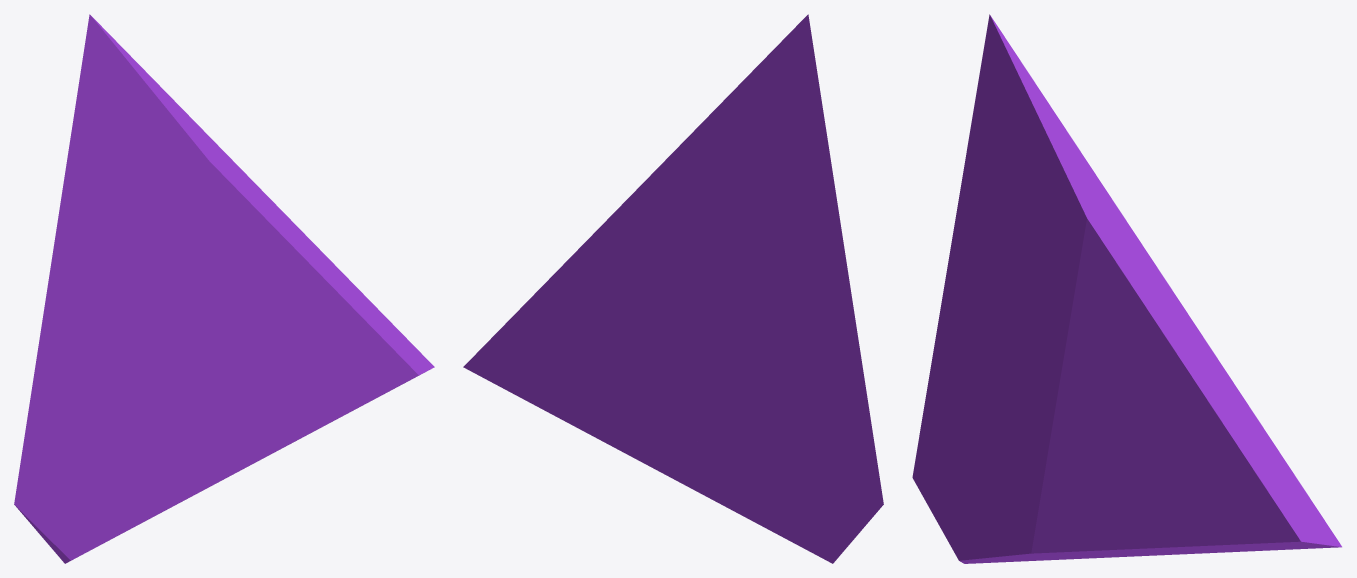
File: Window_40_11_chunks.fbx
3 views of the same model, side by side, from view 1: azimuth 30°, elevation 25°; view 2: azimuth 150°, elevation 25°; view 3: azimuth 330°, elevation 25° (orthographic). The views are drawn at different scales.
Parts seen in each view (by area): view 1: Window_40_11_0, Window_40_11_1, Window_40_11_2, Window_40_11_3; view 2: Window_40_11_0, Window_40_11_1, Window_40_11_2, Window_40_11_3; view 3: Window_40_11_0, Window_40_11_1, Window_40_11_2, Window_40_11_3.
Boxes of the visible parts, <box> form: Window_40_11_0: <box>50,14,312,360</box>; Window_40_11_1: <box>188,243,434,484</box>; Window_40_11_2: <box>14,398,213,563</box>; Window_40_11_3: <box>30,271,204,405</box>; Window_40_11_0: <box>585,14,847,381</box>; Window_40_11_1: <box>463,243,715,484</box>; Window_40_11_2: <box>683,375,883,563</box>; Window_40_11_3: <box>755,271,867,397</box>; Window_40_11_0: <box>949,14,1217,419</box>; Window_40_11_1: <box>1065,359,1341,557</box>; Window_40_11_2: <box>912,377,1116,563</box>; Window_40_11_3: <box>929,257,1081,453</box>.
Bounding box in the file's own units: 538 × 665 × 27.2.
